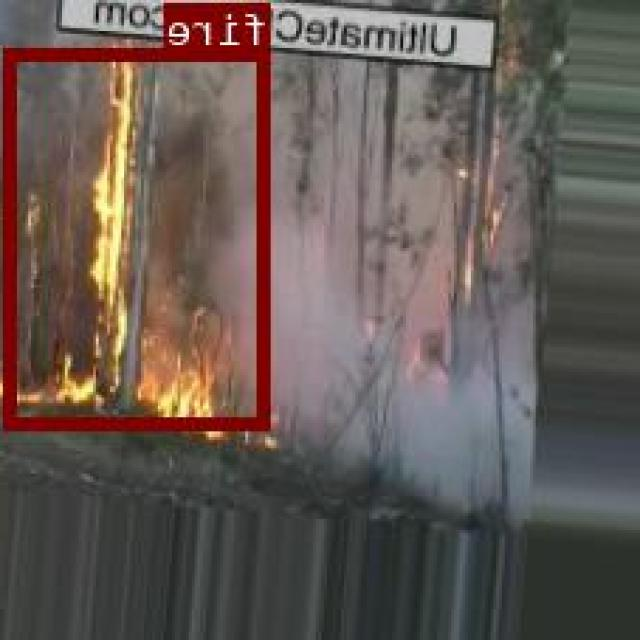fire: (8, 45, 273, 428)
